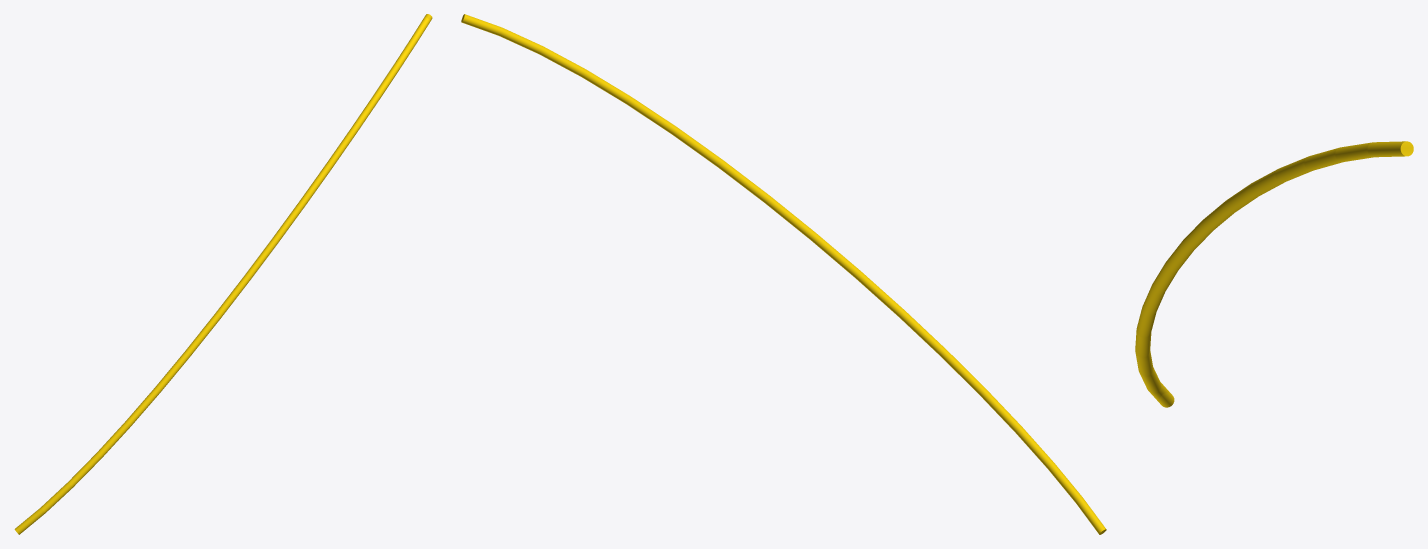
Rendered from Event_421364160_track_76.fbx.
3 views of the same model, side by side, from view 1: azimuth 30°, elevation 25°; view 2: azimuth 150°, elevation 25°; view 3: azimuth 270°, elevation 25° (orthographic). The views are drawn at different scales.
Visible parts, largest first — view 1: Model; view 2: Model; view 3: Model.
Boxes of the visible parts, x1=… form: Model: x1=14, y1=14, x2=432, y2=534; Model: x1=461, y1=14, x2=1106, y2=534; Model: x1=1135, y1=141, x2=1413, y2=407.
Bounding box in the file's own units: 2.92 × 2.12 × 0.7387.
